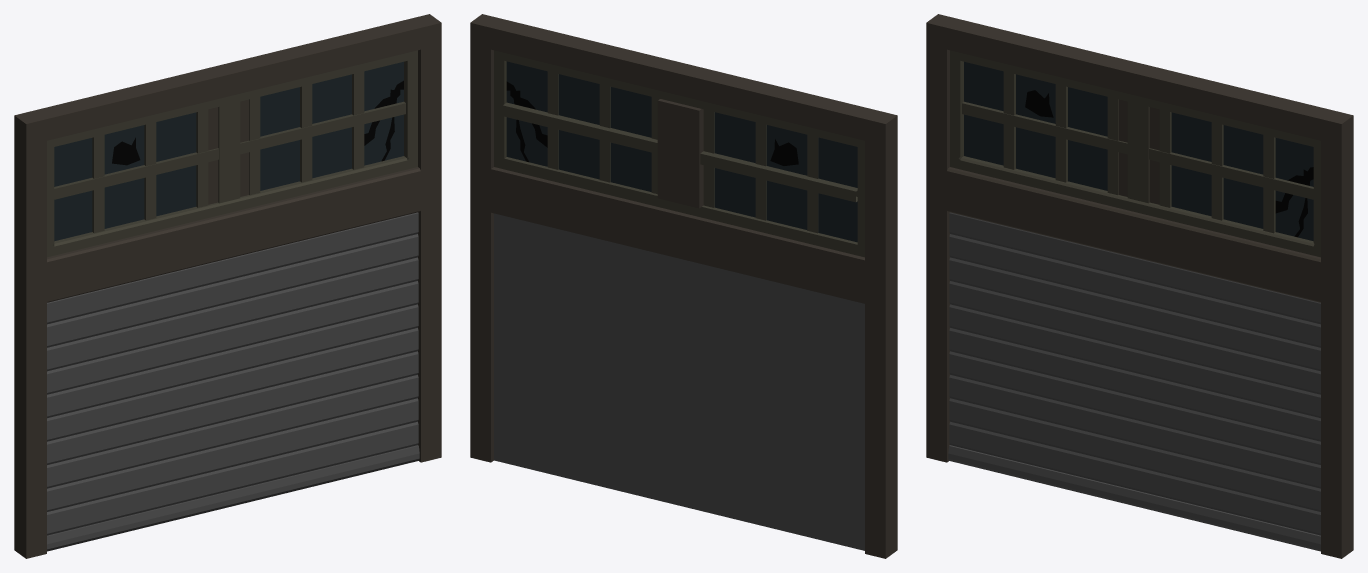
Rendered from front7.fbx.
3 views of the same model, side by side, from view 1: azimuth 30°, elevation 25°; view 2: azimuth 150°, elevation 25°; view 3: azimuth 330°, elevation 25° (orthographic).
Parts seen in each view (by area): view 1: Cube.012; view 2: Cube.012; view 3: Cube.012.
Part boxes in pixels (x1,y1,x2,y2): Cube.012: [14, 14, 441, 558]; Cube.012: [470, 14, 897, 558]; Cube.012: [926, 14, 1353, 558].
Bounding box in the file's own units: 400 × 400 × 20.
